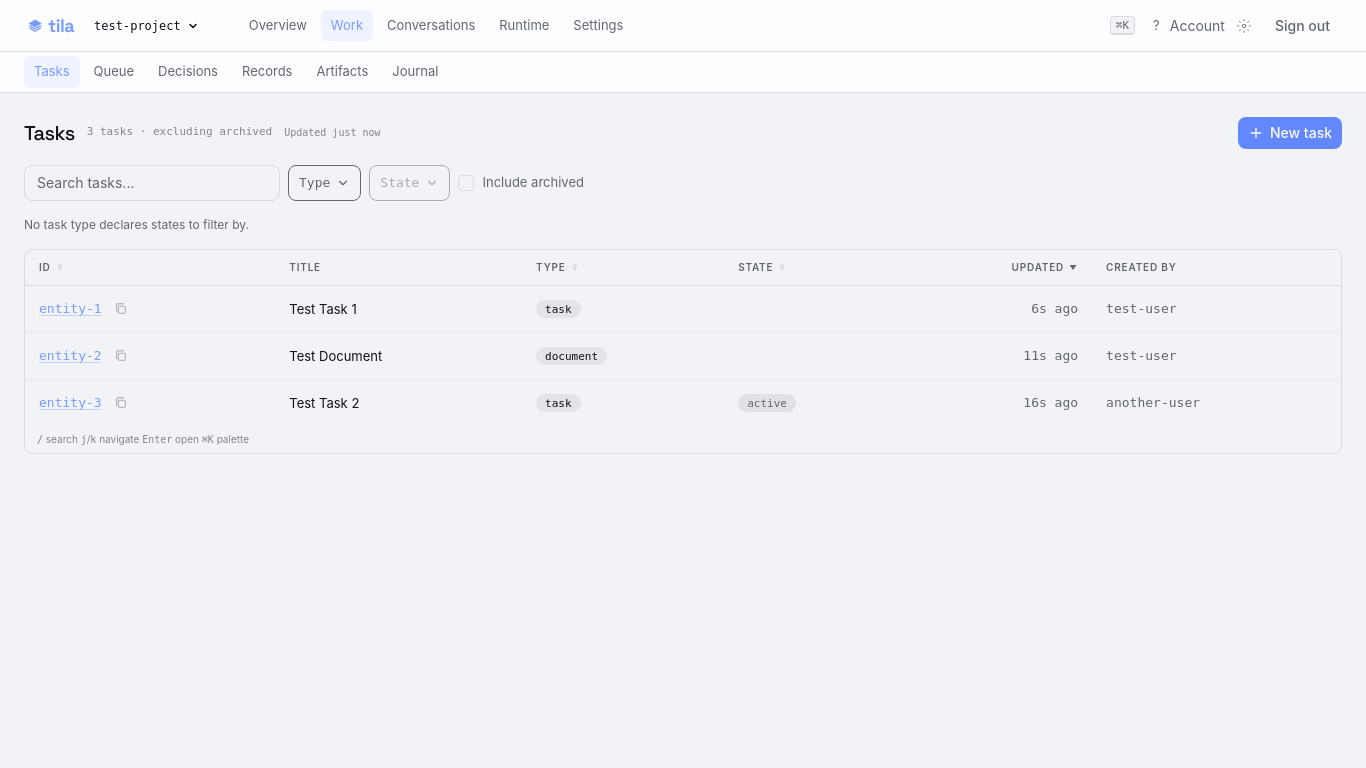
Test case: Layout navigation › the search control opens the command palette at every width
Click the button named "Search and navigate" at (1123, 26), box [1102,12,1143,39]
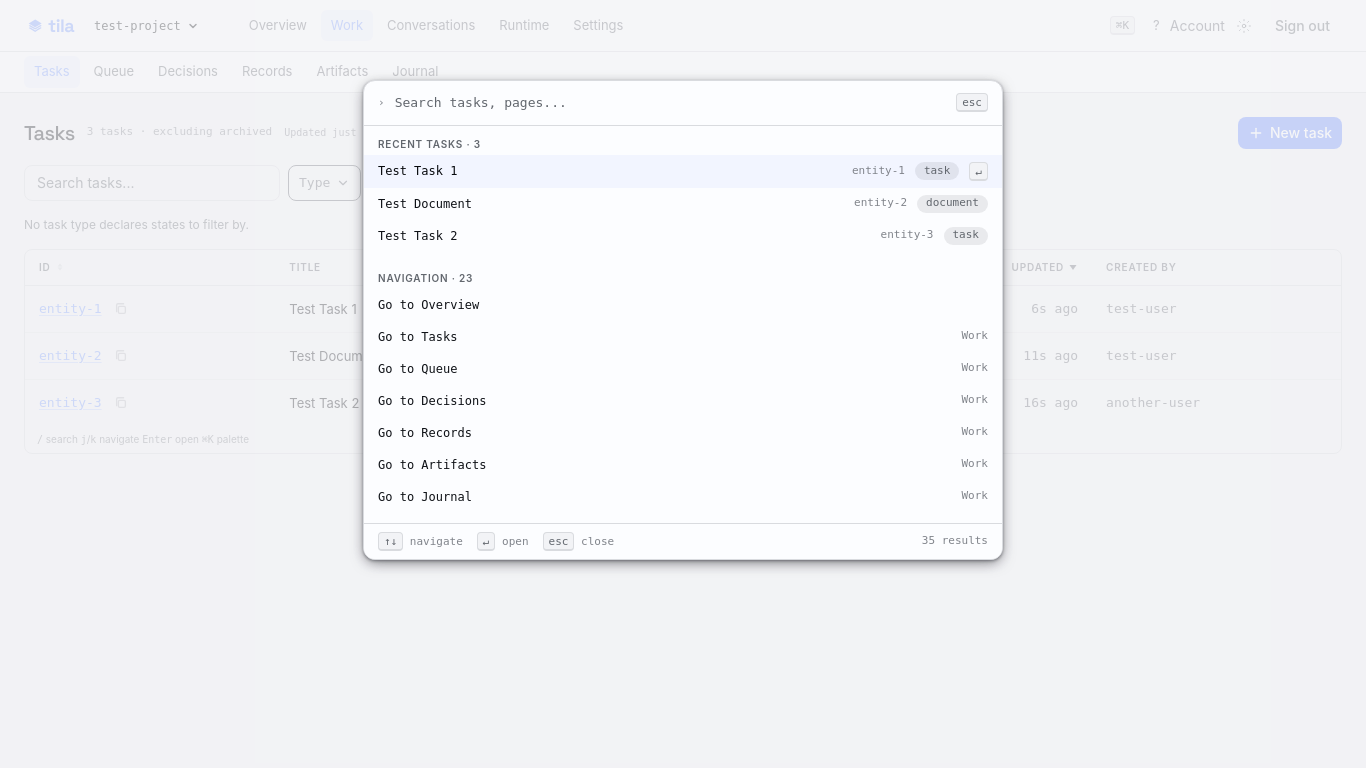
Now the dialog named "Command palette" is shown, box [363,80,1003,560]
